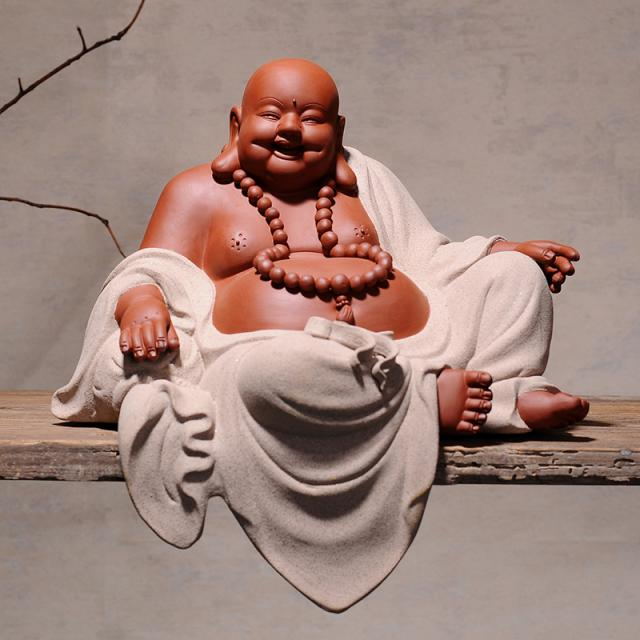Smiling Buddha: (124, 59, 503, 417)
